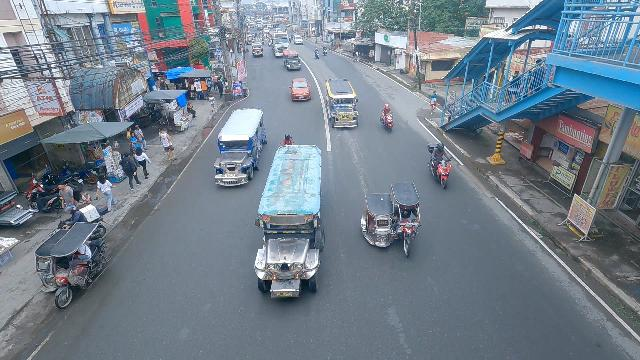car: (289, 78, 312, 103), (292, 34, 303, 45)
jeepney: (253, 143, 326, 299), (209, 107, 267, 189), (324, 77, 359, 130), (281, 50, 302, 71), (251, 41, 264, 60)
motorcycle: (427, 141, 455, 189), (379, 103, 395, 132), (283, 134, 294, 146), (321, 44, 328, 56), (314, 48, 320, 60)
truck: (271, 31, 290, 58)
